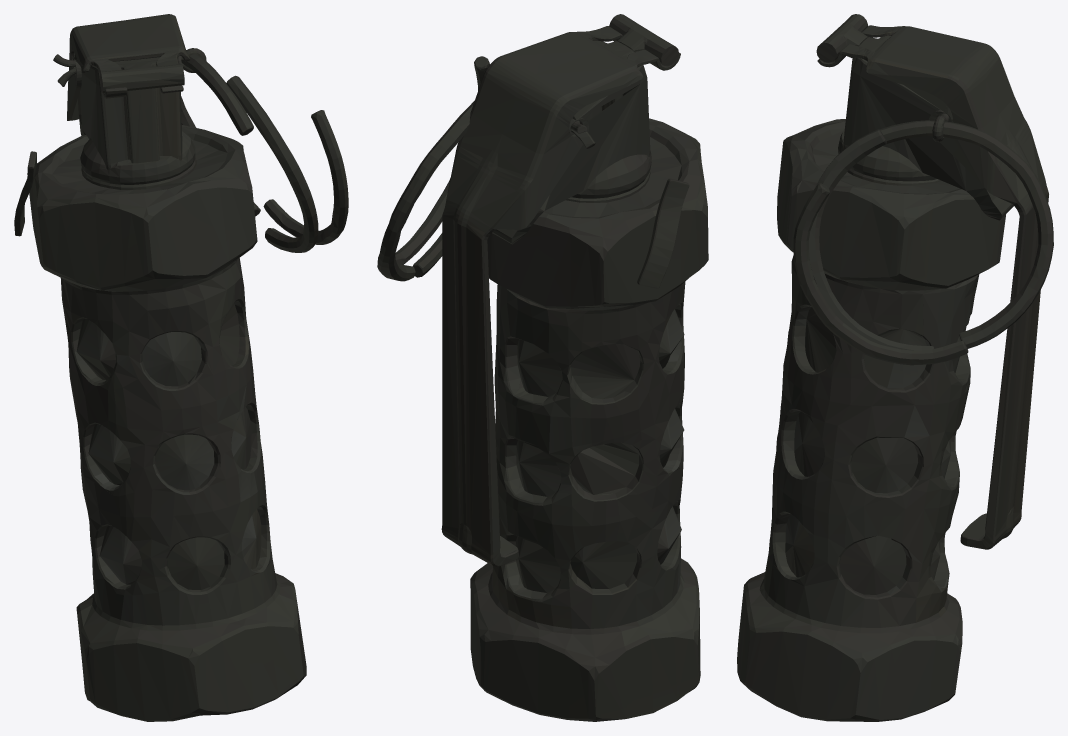
File: mtx.obj
3 views of the same model, side by side, from view 1: azimuth 30°, elevation 25°; view 2: azimuth 150°, elevation 25°; view 3: azimuth 270°, elevation 25° (orthographic). The views are drawn at different scales.
Parts seen in each view (by area): view 1: model; view 2: model; view 3: model.
Boxes of the visible parts, left/top/right/bottom form: model: left=14, top=14, right=348, bottom=721; model: left=377, top=14, right=708, bottom=721; model: left=737, top=14, right=1053, bottom=721.
Size of the model in its own units: 0.5317 by 1.15 by 0.5175.
